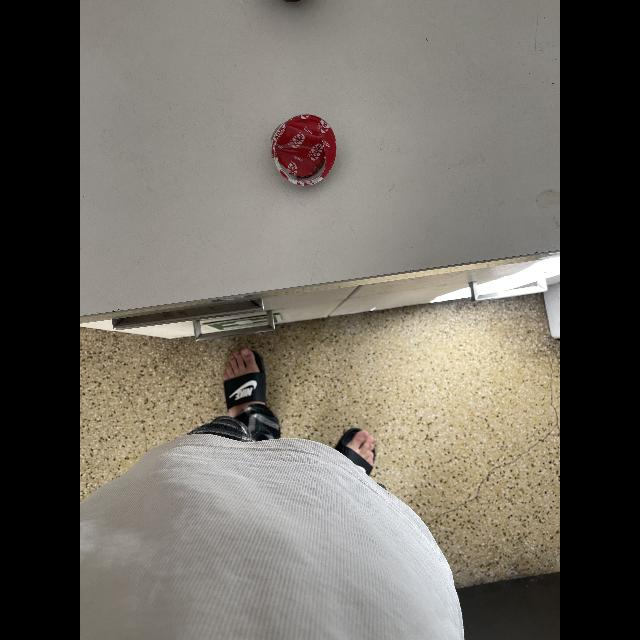damaged_capsule: (267, 114, 341, 188)
